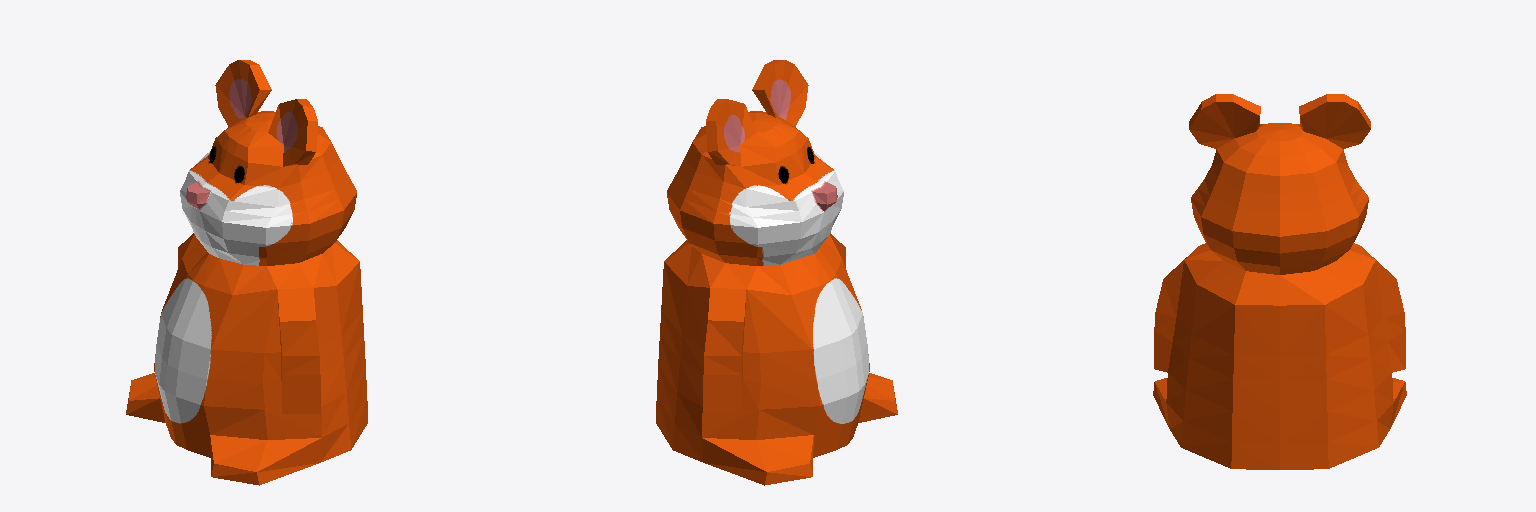
3 renders of one model, left to right at view 1: azimuth 30°, elevation 25°; view 2: azimuth 150°, elevation 25°; view 3: azimuth 270°, elevation 25°, orthographic.
Parts seen in each view (by area): view 1: pPipe2; view 2: pPipe2; view 3: pPipe2.
Part boxes in pixels (x1,y1,x2,y2): pPipe2: (126,60,367,485); pPipe2: (656,60,897,485); pPipe2: (1153,94,1406,469).
Size of the model in its own units: 1.06 by 1.89 by 1.28.
1 materials, 1 textured.